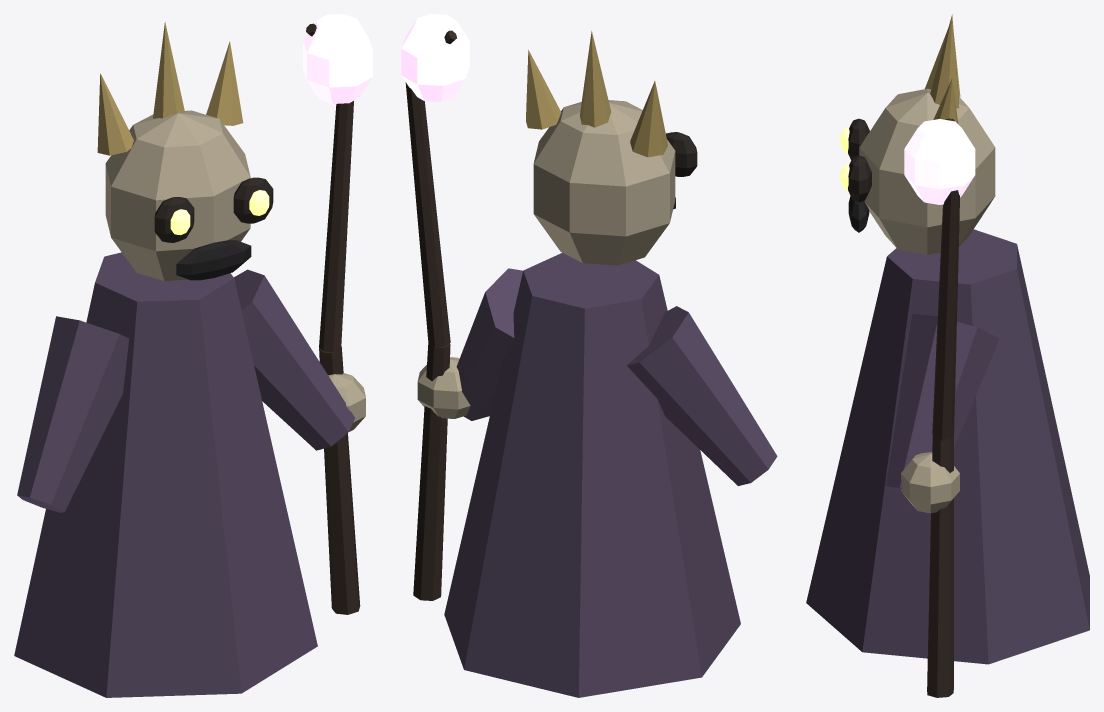
The model's file is fauna-grave_lich.glb.
3 renders of one model, left to right at view 1: azimuth 30°, elevation 25°; view 2: azimuth 150°, elevation 25°; view 3: azimuth 270°, elevation 25°, orthographic. The views are drawn at different scales.
Parts seen in each view (by area): view 1: Fauna_grave_lich; view 2: Fauna_grave_lich; view 3: Fauna_grave_lich.
Part boxes in pixels (left/top/right/bottom): Fauna_grave_lich: left=14, top=14, right=372, bottom=697; Fauna_grave_lich: left=401, top=14, right=777, bottom=697; Fauna_grave_lich: left=806, top=14, right=1089, bottom=697.
Bounding box in the file's own units: 1.28 × 2.12 × 0.9125.
